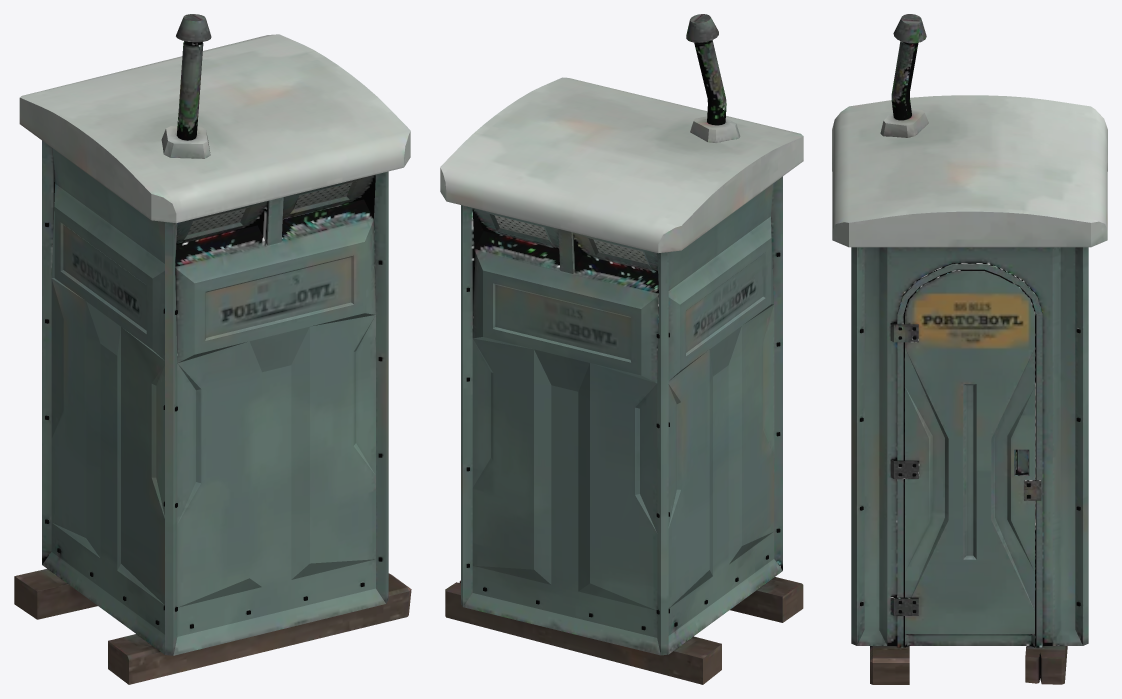
The picture shows the model from 3 angles, left to right: view 1: azimuth 30°, elevation 25°; view 2: azimuth 150°, elevation 25°; view 3: azimuth 270°, elevation 25°; orthographic projection. The views are drawn at different scales.
Parts seen in each view (by area): view 1: body0_model0_lod0_mesh0; view 2: body0_model0_lod0_mesh0; view 3: body0_model0_lod0_mesh0.
Boxes of the visible parts, x1,y1,x2,y2 form: body0_model0_lod0_mesh0: [14, 14, 411, 684]; body0_model0_lod0_mesh0: [440, 14, 803, 684]; body0_model0_lod0_mesh0: [832, 14, 1107, 684].
Size of the model in its own units: 85.55 by 179 by 77.21.
1 material, 1 textured.
